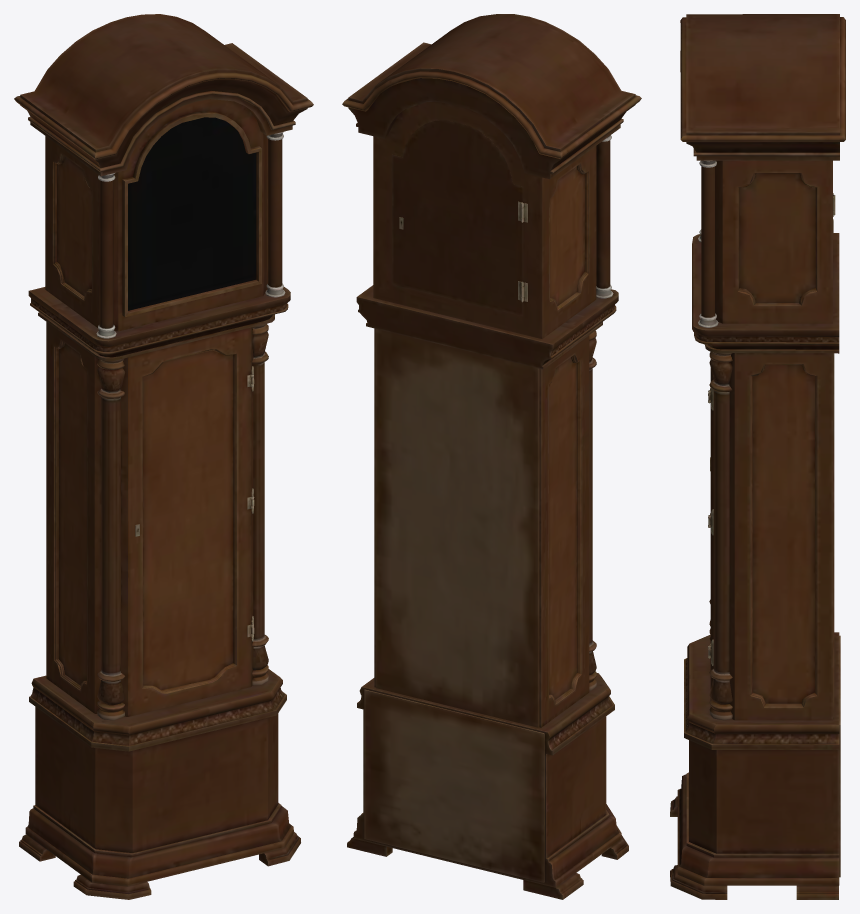
Rendered from grandfather_clock.glb.
3 renders of one model, left to right at view 1: azimuth 30°, elevation 25°; view 2: azimuth 150°, elevation 25°; view 3: azimuth 270°, elevation 25°, orthographic. The views are drawn at different scales.
Visible parts, largest first — view 1: vintage_grandfather_clock_01_body; view 2: vintage_grandfather_clock_01_body; view 3: vintage_grandfather_clock_01_body.
Part boxes in pixels (x1,y1,x2,y2): vintage_grandfather_clock_01_body: (14,14,313,899); vintage_grandfather_clock_01_body: (342,14,641,899); vintage_grandfather_clock_01_body: (670,14,845,899).
Size of the model in its own units: 0.6255 by 2.19 by 0.4265.
Materials: 2 (2 with a texture image).
